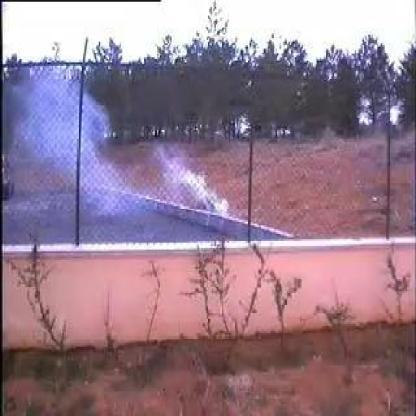-: (7, 71, 233, 224)
